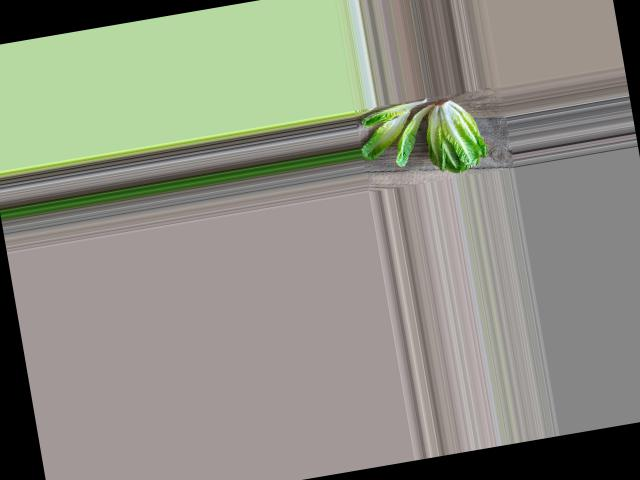lettuce: (417, 96, 492, 176)
